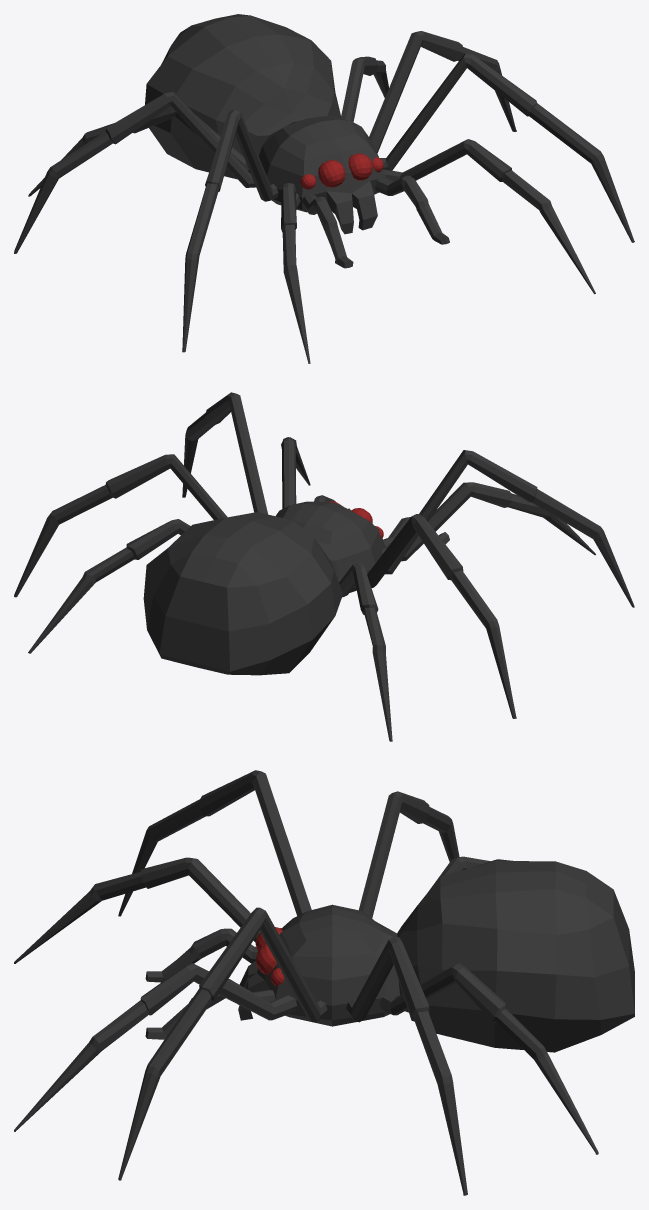
Rendered from Spider.glb.
3 renders of one model, top to bottom at view 1: azimuth 30°, elevation 25°; view 2: azimuth 150°, elevation 25°; view 3: azimuth 270°, elevation 25°, orthographic. The views are drawn at different scales.
Parts seen in each view (by area): view 1: Spider; view 2: Spider; view 3: Spider.
Boxes of the visible parts, x1=… form: Spider: x1=14, y1=14, x2=634, y2=363; Spider: x1=14, y1=392, x2=634, y2=741; Spider: x1=14, y1=770, x2=634, y2=1195.
Size of the model in its own units: 5.94 by 1.95 by 5.27.
